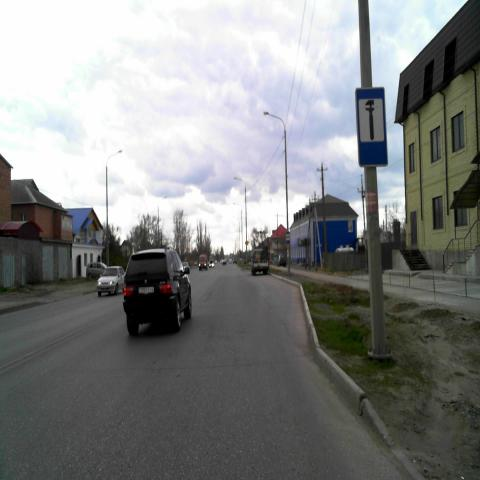7_4: (356, 87, 389, 168)
